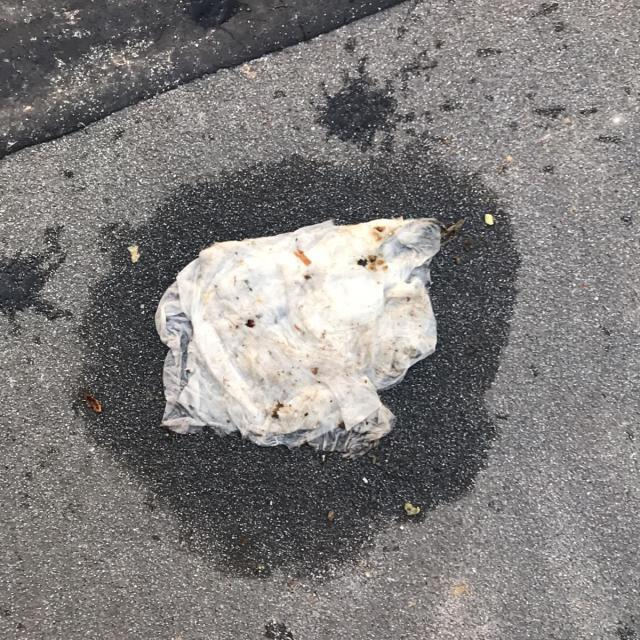Paper: (152, 214, 446, 461)
